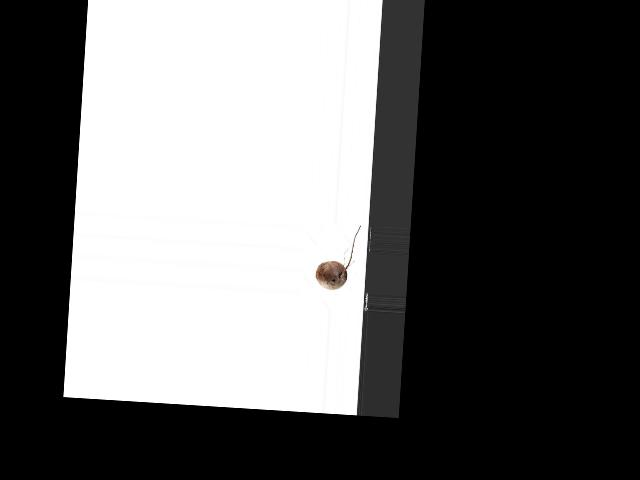beet: (315, 222, 361, 290)
